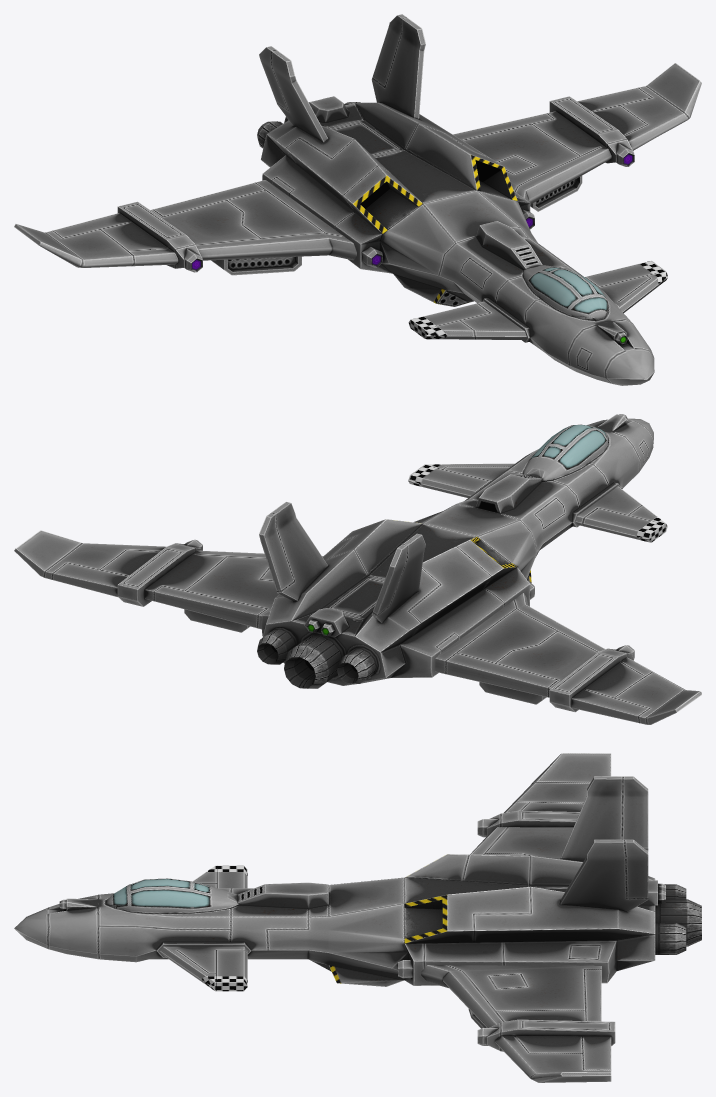
File: Stuka.FBX
The picture shows the model from 3 angles, top to bottom: view 1: azimuth 30°, elevation 25°; view 2: azimuth 150°, elevation 25°; view 3: azimuth 270°, elevation 25°; orthographic projection.
Visible parts, largest first — view 1: body, rwing, lwing, rwing2, lwing2, rlauncher, llauncher; view 2: body, rwing, lwing, rwing2, lwing2, rlauncher, llauncher; view 3: body, lwing, rwing, lwing2, rwing2.
Boxes of the visible parts, <box> form: body: <box>257,14,654,385</box>; rwing: <box>14,180,356,272</box>; lwing: <box>453,63,701,204</box>; rwing2: <box>408,301,526,340</box>; lwing2: <box>585,260,667,312</box>; rlauncher: <box>211,256,301,275</box>; llauncher: <box>530,176,582,211</box>; body: <box>257,414,653,688</box>; rwing: <box>435,593,701,724</box>; lwing: <box>14,530,323,629</box>; rwing2: <box>575,486,667,542</box>; lwing2: <box>408,463,514,497</box>; rlauncher: <box>479,682,546,704</box>; llauncher: <box>184,609,249,632</box>; body: <box>14,776,701,986</box>; lwing: <box>421,965,615,1082</box>; rwing: <box>470,753,611,858</box>; lwing2: <box>160,946,247,991</box>; rwing2: <box>192,865,247,888</box>.
Size of the model in its own units: 43.44 by 39.38 by 10.11.
1 material, 1 textured.
